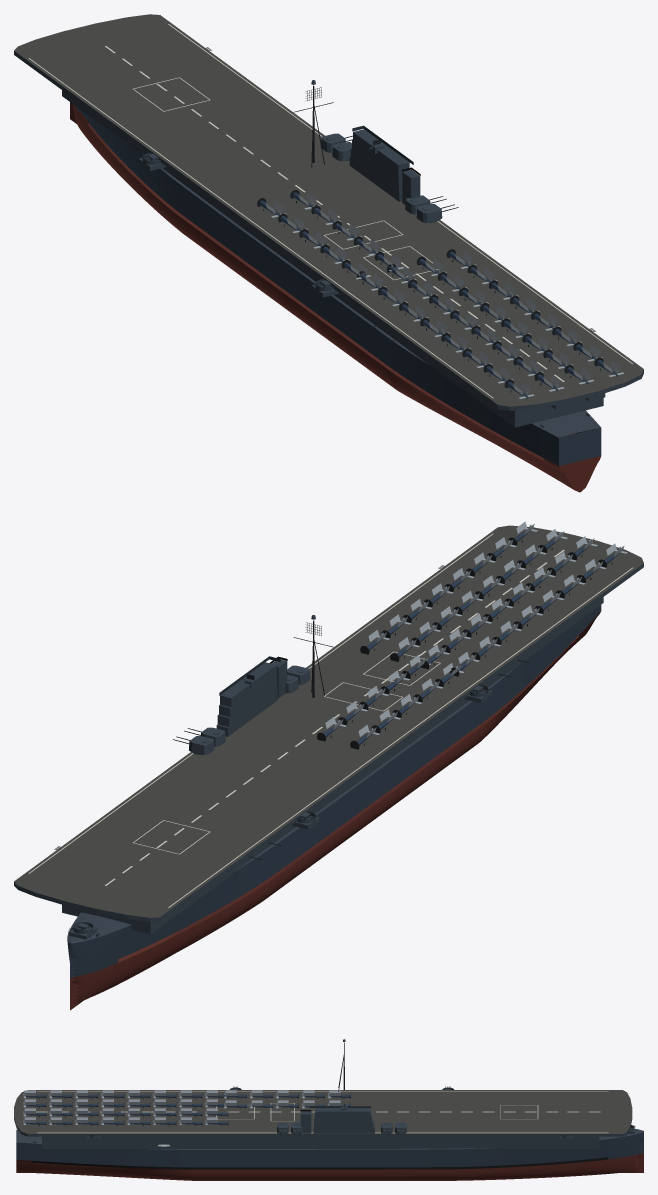
Rendered from essex.glb.
3 renders of one model, top to bottom at view 1: azimuth 30°, elevation 25°; view 2: azimuth 150°, elevation 25°; view 3: azimuth 270°, elevation 25°, orthographic. The views are drawn at different scales.
Parts seen in each view (by area): view 1: Hull; view 2: Hull; view 3: Hull.
Boxes of the visible parts, box(x1,y1,x2,y2) form: Hull: box(14, 14, 643, 492); Hull: box(14, 521, 643, 1010); Hull: box(14, 1039, 643, 1180).
Size of the model in its own units: 54.2 by 62.3 by 267.
